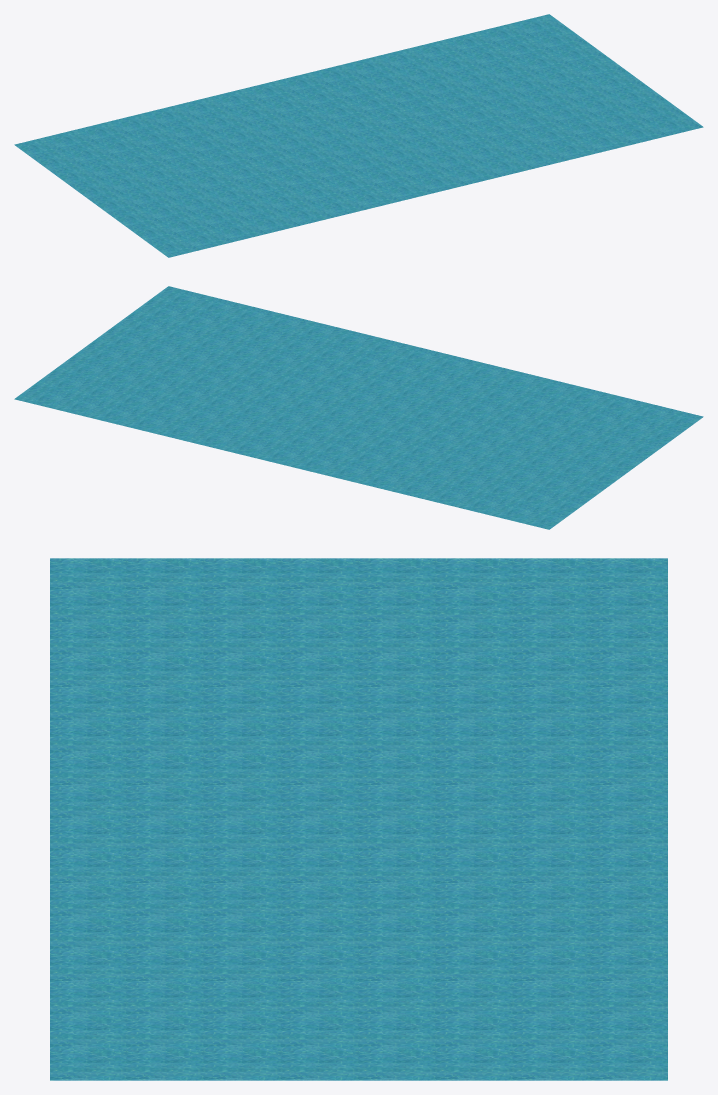
The model's file is Wave.FBX.
3 renders of one model, top to bottom at view 1: azimuth 30°, elevation 25°; view 2: azimuth 150°, elevation 25°; view 3: azimuth 270°, elevation 25°, orthographic. The views are drawn at different scales.
Parts seen in each view (by area): view 1: Wave; view 2: Wave; view 3: Wave.
Boxes of the visible parts, x1,y1,x2,y2 form: Wave: [14, 14, 703, 257]; Wave: [14, 286, 703, 529]; Wave: [50, 558, 667, 1080].
Bounding box in the file's own units: 8000 × 0.000301 × 4000.
